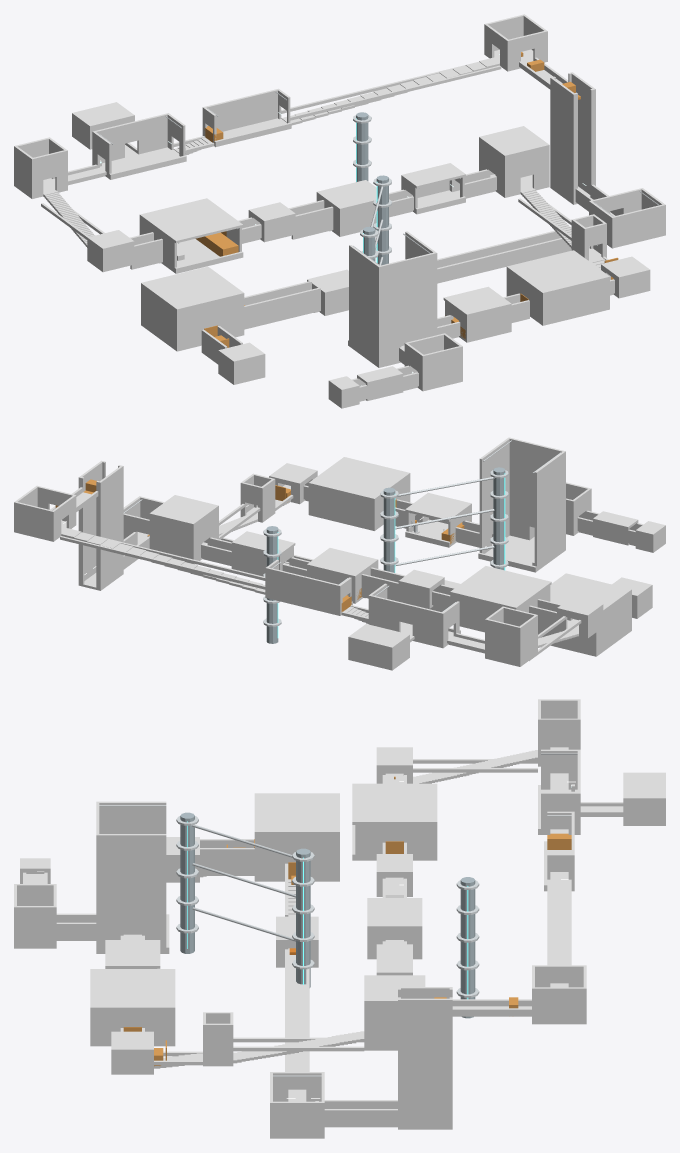
File: laboratory.glb
The picture shows the model from 3 angles, top to bottom: view 1: azimuth 30°, elevation 25°; view 2: azimuth 150°, elevation 25°; view 3: azimuth 270°, elevation 25°; orthographic projection. The views are drawn at different scales.
Parts seen in each view (by area): view 1: hub_w_0, calibration_ceiling, final_ceiling, abrasive_ceiling, hub_s_0, chute_w_0, hub_s_1, abrasive_s_0, upper_bridge_n_0, link_20_21_rail_1, link_21_22_rail_1, bowl_s_0 (+41 smaller); view 2: hub_w_0, calibration_ceiling, abrasive_ceiling, upper_bridge_n_0, hub_s_1, chute_w_0, abrasive_n_0, final_ceiling, stairs_n_0, upper_stairs_n_0, stairs_ceiling, load_test_ceiling (+39 smaller); view 3: chute_e_0, final_ceiling, abrasive_ceiling, calibration_ceiling, hub_e_0, hub_e_1, hub_w_0, hub_e_lintel, deco_tower_-8_spine, link_20_21_step_0, load_test_ceiling, bowl_e_0 (+29 smaller).
Part boxes in pixels (left/top/right/bottom): hub_w_0: left=349, top=245, right=379, bottom=364; calibration_ceiling: left=139, top=198, right=243, bottom=243; final_ceiling: left=141, top=266, right=244, bottom=311; abrasive_ceiling: left=506, top=250, right=609, bottom=295; hub_s_0: left=377, top=261, right=401, bottom=365; chute_w_0: left=551, top=78, right=573, bottom=201; hub_s_1: left=414, top=252, right=437, bottom=340; abrasive_s_0: left=541, top=279, right=609, bottom=323; upper_bridge_n_0: left=202, top=88, right=279, bottom=135; link_20_21_rail_1: left=437, top=238, right=571, bottom=282; link_21_22_rail_1: left=244, top=287, right=320, bottom=329; bowl_s_0: left=611, top=204, right=665, bottom=245; hub_w_0: left=534, top=451, right=564, bottom=568; calibration_ceiling: left=450, top=566, right=551, bottom=609; abrasive_ceiling: left=308, top=457, right=410, bottom=501; upper_bridge_n_0: left=265, top=567, right=341, bottom=613; hub_s_1: left=508, top=437, right=530, bottom=540; chute_w_0: left=100, top=466, right=122, bottom=587; abrasive_n_0: left=308, top=485, right=375, bottom=528; final_ceiling: left=550, top=573, right=631, bottom=612; stairs_n_0: left=149, top=516, right=194, bottom=559; upper_stairs_n_0: left=485, top=618, right=521, bottom=664; stairs_ceiling: left=149, top=495, right=218, bottom=526; load_test_ceiling: left=307, top=548, right=378, bottom=578; chute_e_0: left=401, top=998, right=449, bottom=1126; final_ceiling: left=254, top=793, right=339, bottom=834; abrasive_ceiling: left=90, top=969, right=175, bottom=1010; calibration_ceiling: left=352, top=783, right=437, bottom=824; hub_e_0: left=142, top=834, right=166, bottom=950; hub_e_1: left=99, top=834, right=123, bottom=950; hub_w_0: left=99, top=801, right=166, bottom=833; hub_e_lintel: left=123, top=834, right=141, bottom=934; deco_tower_-8_spine: left=180, top=812, right=194, bottom=953; link_20_21_step_0: left=288, top=964, right=306, bottom=1101; load_test_ceiling: left=367, top=898, right=422, bottom=928; bowl_e_0: left=273, top=1101, right=321, bottom=1135.
Size of the model in its own units: 232 by 54 by 214.
